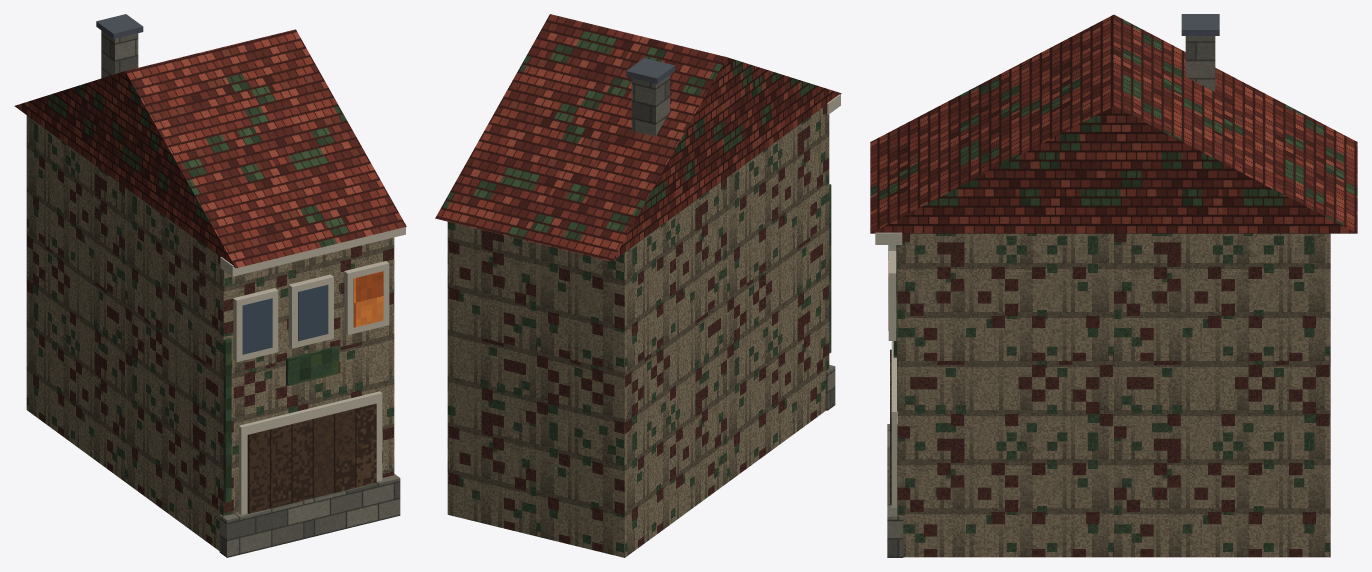
The model's file is ENV_C_Facade_2.fbx.
3 views of the same model, side by side, from view 1: azimuth 30°, elevation 25°; view 2: azimuth 150°, elevation 25°; view 3: azimuth 270°, elevation 25° (orthographic). The views are drawn at different scales.
Parts seen in each view (by area): view 1: ENV_C_Facade_2; view 2: ENV_C_Facade_2; view 3: ENV_C_Facade_2.
Part boxes in pixels (bbox=[...]): ENV_C_Facade_2: bbox=[14, 14, 406, 557]; ENV_C_Facade_2: bbox=[435, 14, 841, 557]; ENV_C_Facade_2: bbox=[870, 14, 1357, 557].
Bounding box in the file's own units: 406 × 942 × 900.
Materials: 9 (6 with a texture image).
